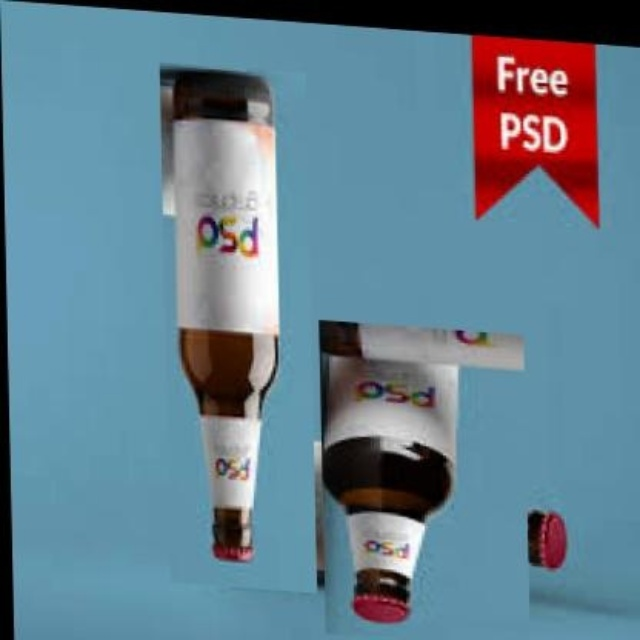trash: (320, 322, 523, 622), (162, 69, 277, 560)
